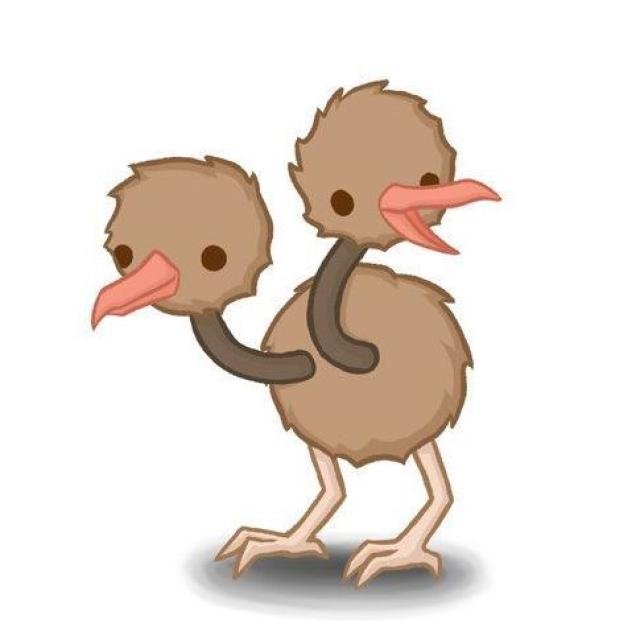Doduo: (95, 82, 476, 588)
